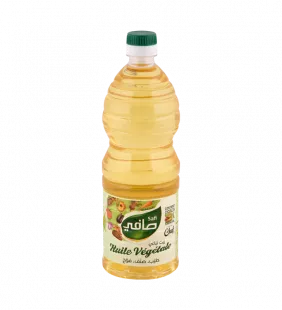CHEF SAFI: (92, 20, 188, 285)
